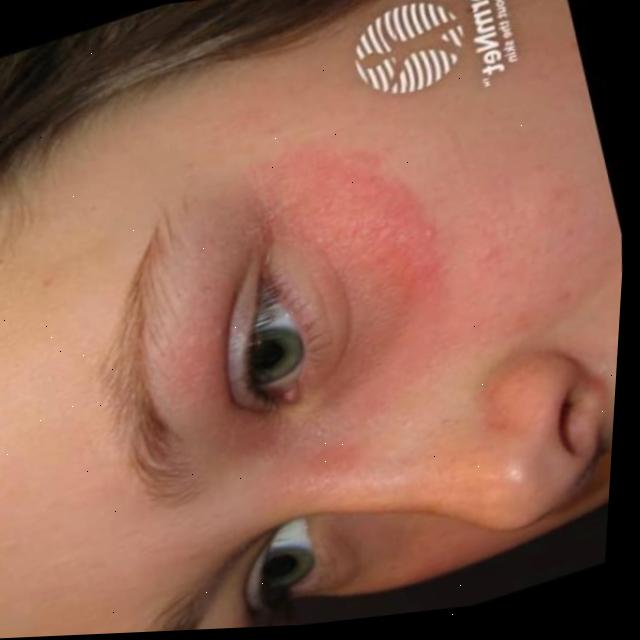Eczema: (287, 152, 456, 374)
